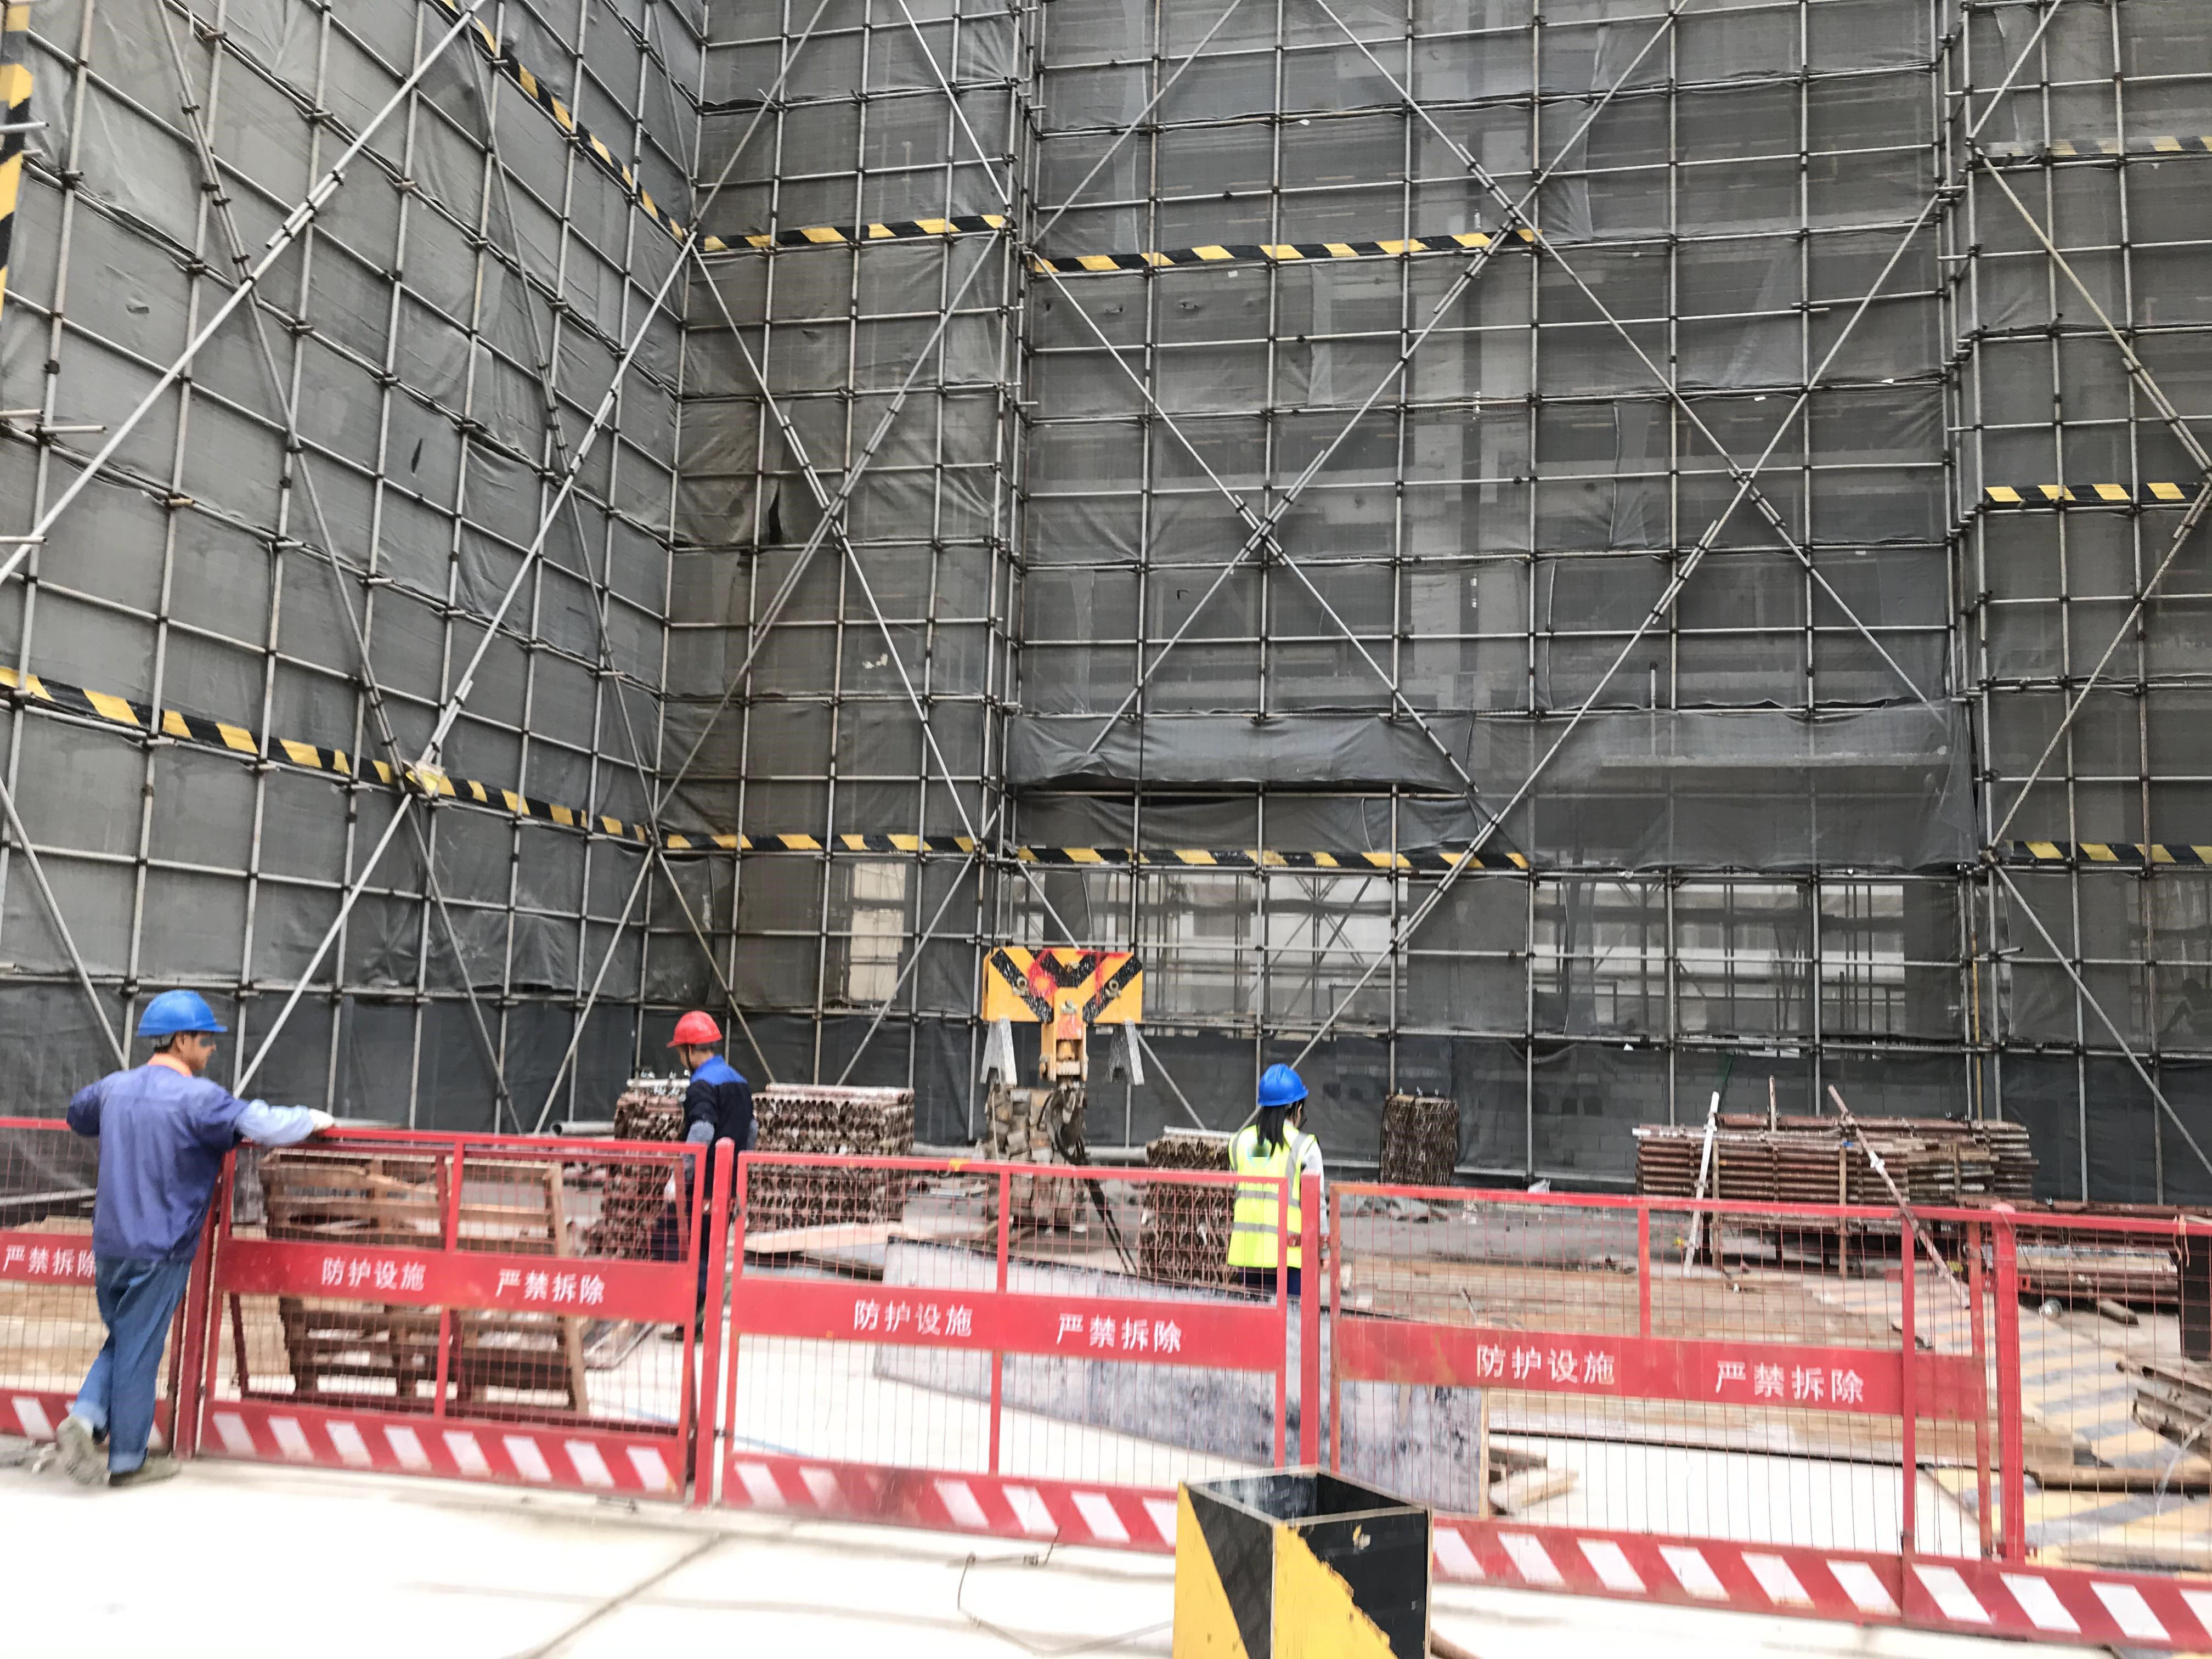fence: (294, 1116, 2022, 1634)
helmet: (129, 989, 229, 1040), (1250, 1059, 1312, 1108), (667, 1007, 725, 1052)
hook: (972, 905, 1200, 1169)
person: (57, 988, 343, 1508), (663, 1001, 757, 1350), (1220, 1062, 1334, 1299)
vest: (1219, 1124, 1329, 1283)
